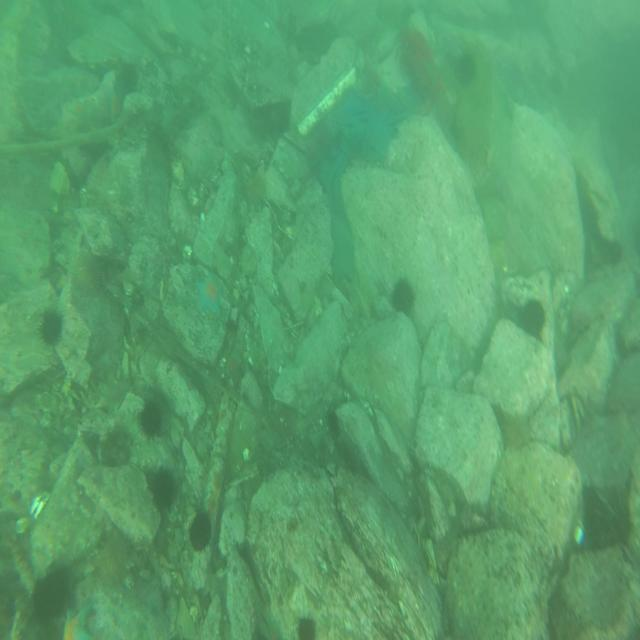echinus: (96, 532, 136, 589), (33, 572, 67, 624), (146, 466, 179, 517), (187, 504, 216, 556), (35, 304, 66, 352), (500, 410, 534, 451), (135, 399, 167, 440), (520, 296, 548, 342), (388, 277, 417, 320), (241, 169, 268, 212), (598, 232, 624, 271), (294, 608, 320, 640), (453, 51, 475, 88)
starfish: (56, 599, 97, 640), (195, 268, 222, 314), (65, 92, 92, 137), (103, 83, 127, 124)
